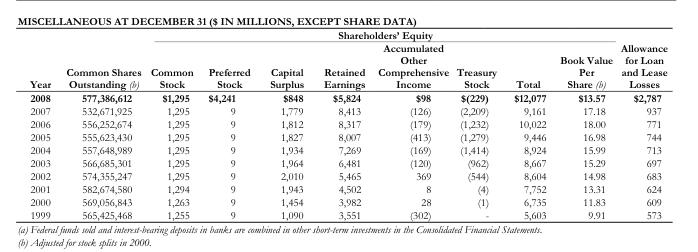table: (29, 28, 667, 220)
table column: (57, 28, 145, 220), (370, 28, 451, 220), (552, 28, 616, 220), (200, 28, 259, 220), (313, 28, 370, 220), (145, 28, 200, 220), (259, 28, 313, 220), (451, 28, 504, 220), (616, 28, 667, 220), (504, 28, 552, 220), (29, 28, 57, 220)
table column header: (29, 28, 667, 90)
table row: (29, 41, 667, 90), (29, 90, 667, 104), (29, 28, 667, 41), (29, 104, 667, 117), (29, 117, 667, 130), (29, 130, 667, 143), (29, 143, 667, 156), (29, 156, 667, 169), (29, 169, 667, 182), (29, 182, 667, 195), (29, 195, 667, 208), (29, 208, 667, 220)
table spanning cell: (145, 28, 616, 41), (57, 28, 145, 90), (616, 28, 667, 90), (29, 28, 57, 90)
